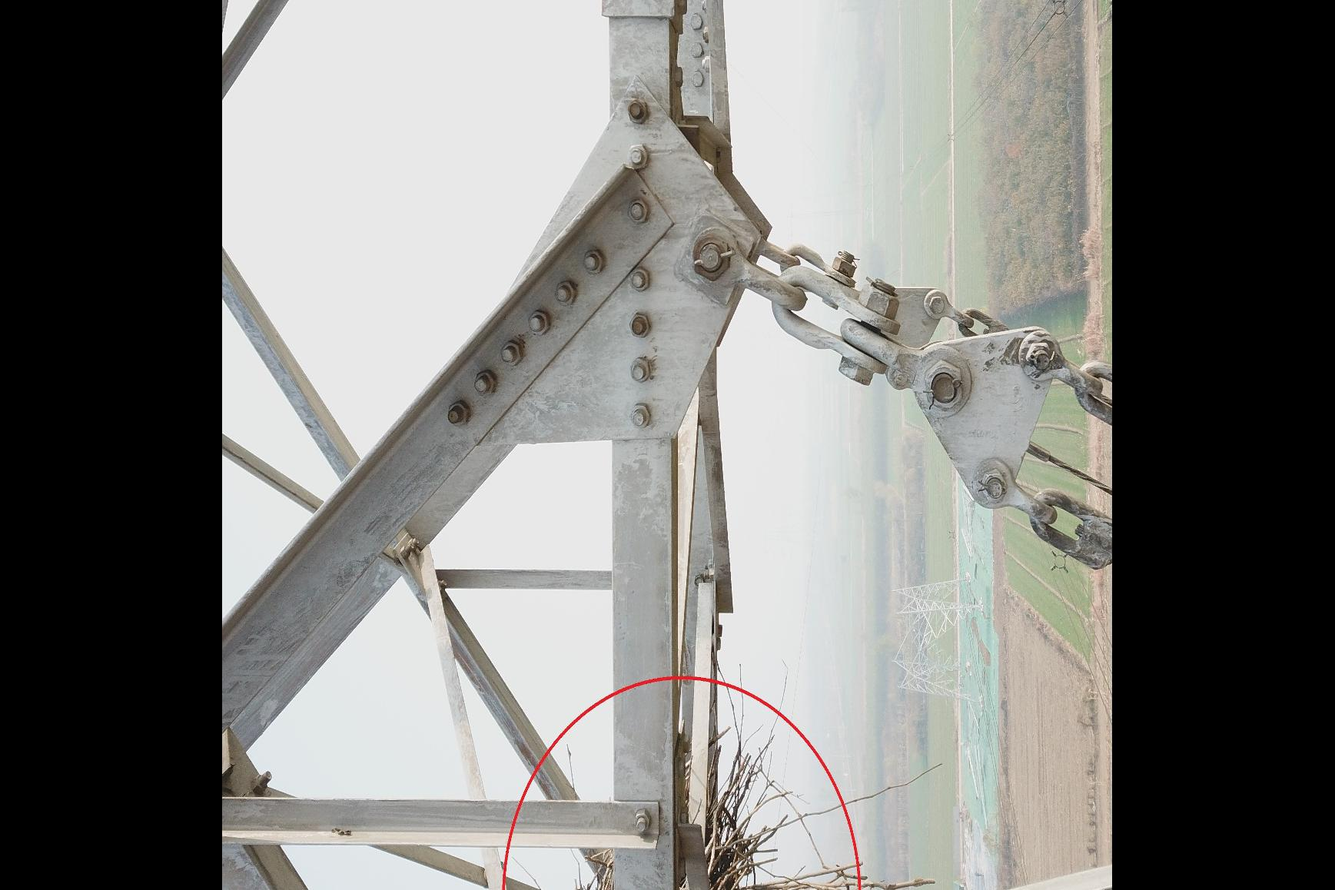nest: (682, 730, 908, 890)
